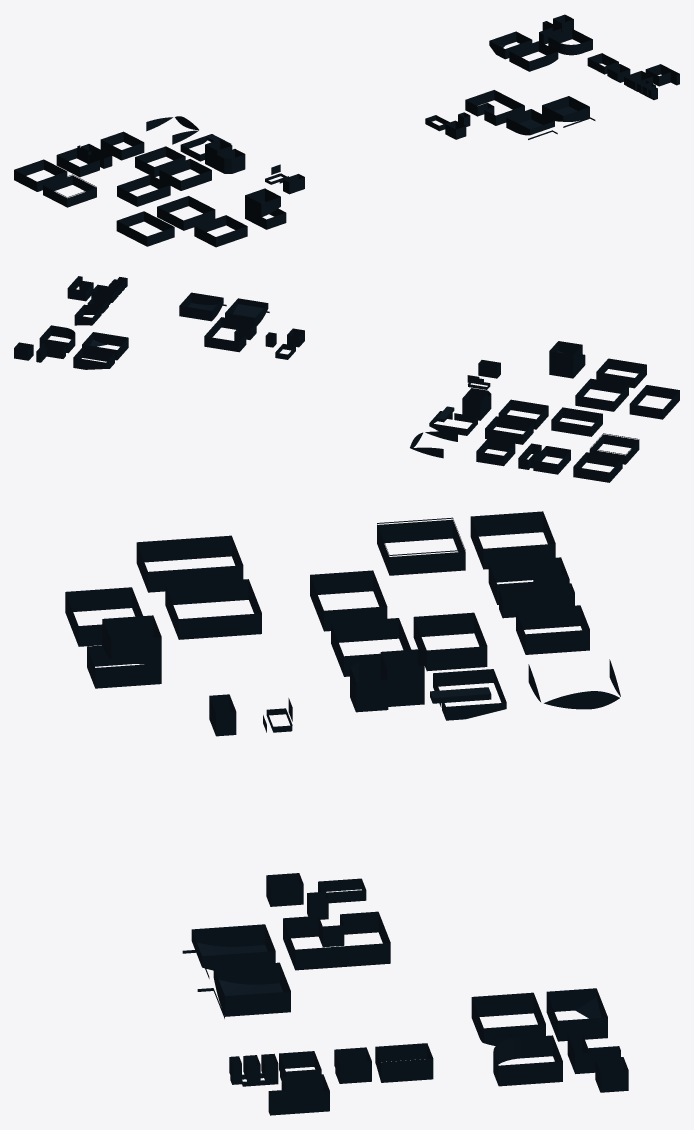
File: Glass Dark Four.FBX
The picture shows the model from 3 angles, top to bottom: view 1: azimuth 30°, elevation 25°; view 2: azimuth 150°, elevation 25°; view 3: azimuth 270°, elevation 25°; orthographic projection. The views are drawn at different scales.
Visible parts, largest first — view 1: Glass Dark Four; view 2: Glass Dark Four; view 3: Glass Dark Four.
Boxes of the visible parts, x1=… form: Glass Dark Four: x1=14, y1=14, x2=679, y2=247; Glass Dark Four: x1=14, y1=276, x2=679, y2=482; Glass Dark Four: x1=65, y1=511, x2=628, y2=1115.
Size of the model in its own units: 1265 by 50.81 by 516.
